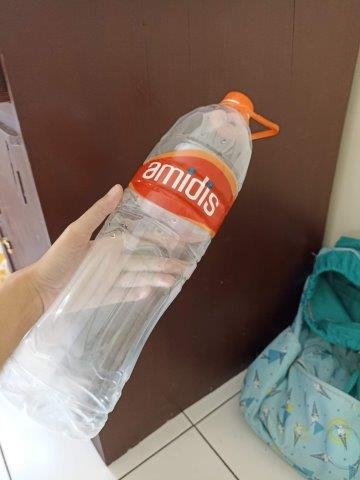botolplastik: (7, 90, 277, 439)
